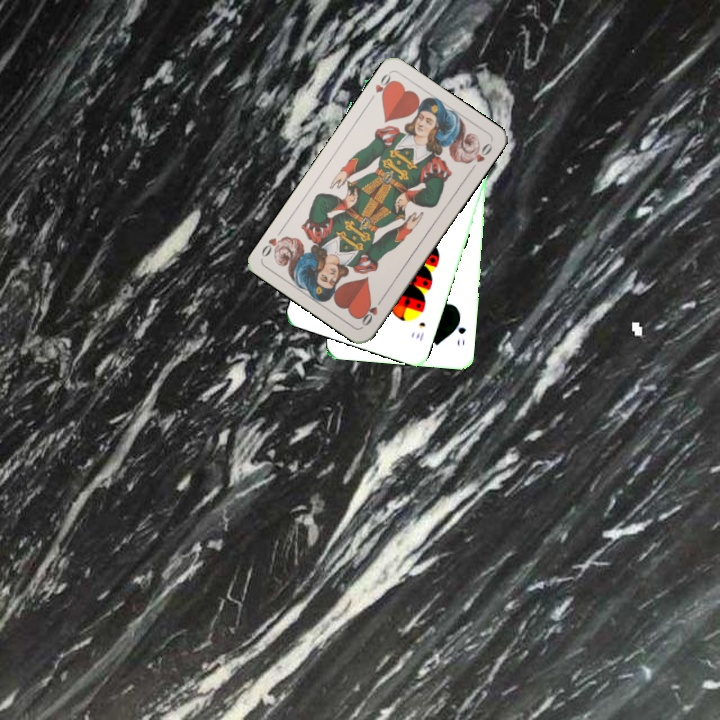GO: (452, 312, 468, 349)
HO: (365, 69, 397, 105), (357, 293, 386, 329)
S10: (412, 318, 428, 344)
